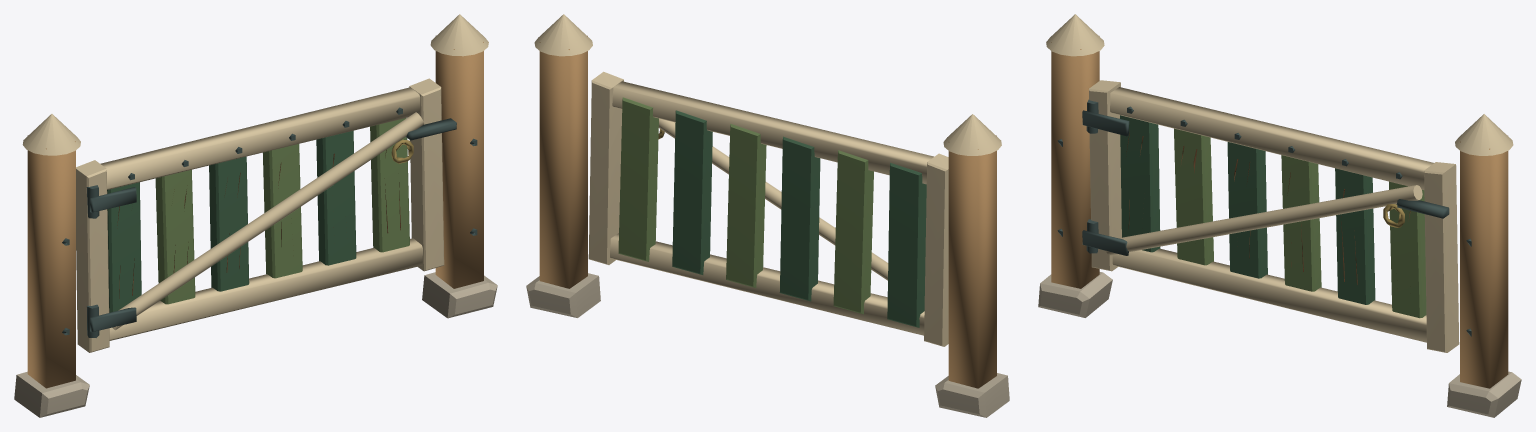
File: porton_lod.glb
3 renders of one model, left to right at view 1: azimuth 30°, elevation 25°; view 2: azimuth 150°, elevation 25°; view 3: azimuth 330°, elevation 25°, orthographic.
Parts seen in each view (by area): view 1: pt_hoja, porton; view 2: pt_hoja, porton; view 3: pt_hoja, porton.
Boxes of the visible parts, x1=… form: pt_hoja: x1=76, y1=78, x2=456, y2=352; porton: x1=14, y1=14, x2=497, y2=417; pt_hoja: x1=588, y1=71, x2=948, y2=346; porton: x1=526, y1=14, x2=1009, y2=417; pt_hoja: x1=1082, y1=80, x2=1459, y2=352; porton: x1=1038, y1=14, x2=1521, y2=417.
Size of the model in its own units: 2.26 by 1.36 by 0.2953.
